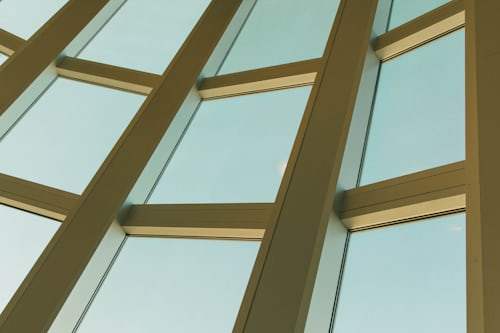glass_panel: (149, 87, 310, 202), (77, 237, 259, 332), (0, 78, 144, 193), (361, 30, 464, 184), (333, 214, 465, 332), (78, 0, 209, 73), (218, 0, 339, 74), (0, 205, 59, 311), (0, 0, 67, 38), (388, 0, 449, 29), (0, 53, 7, 64)
